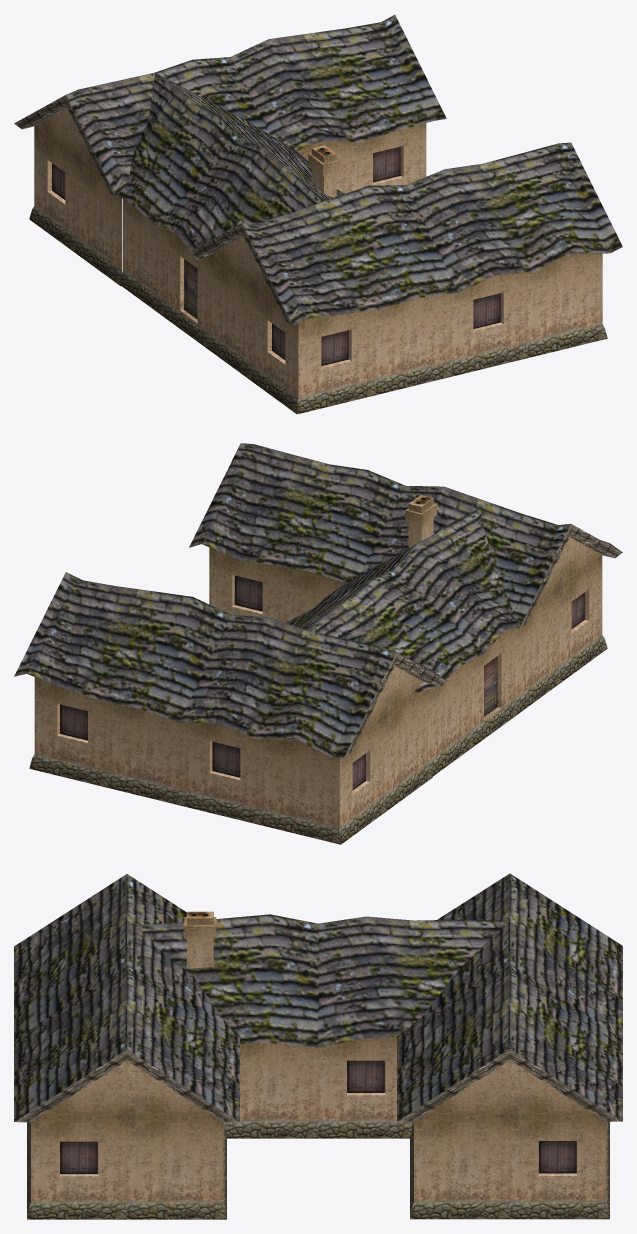
The model's file is s44_b_house_2_6.dae.
3 views of the same model, one above another, from view 1: azimuth 30°, elevation 25°; view 2: azimuth 150°, elevation 25°; view 3: azimuth 270°, elevation 25° (orthographic). The views are drawn at different scales.
Visible parts, largest first — view 1: Untitled; view 2: Untitled; view 3: Untitled.
Boxes of the visible parts, x1,y1,x2,y2 form: Untitled: (14,15,622,414); Untitled: (14,443,622,844); Untitled: (14,873,622,1219).
Bounding box in the file's own units: 104 × 152 × 54.08.
1 material, 1 textured.
